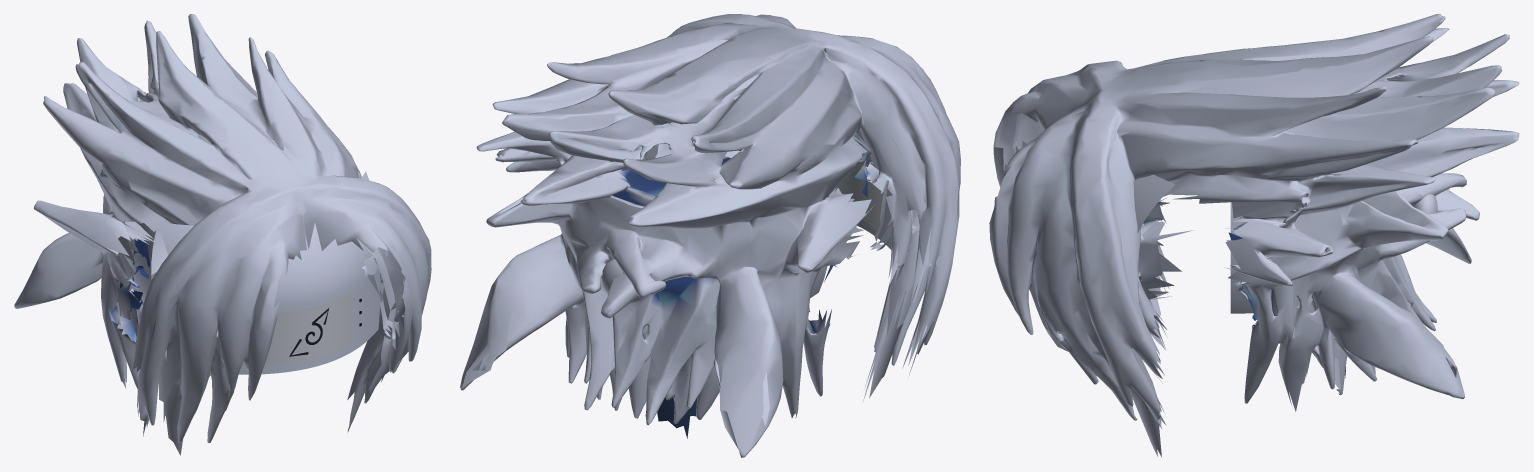
The model's file is reference-sculpt-hair-v10.glb.
3 renders of one model, left to right at view 1: azimuth 30°, elevation 25°; view 2: azimuth 150°, elevation 25°; view 3: azimuth 270°, elevation 25°, orthographic. The views are drawn at different scales.
Visible parts, largest first — view 1: Reference Sculpt Hair; view 2: Reference Sculpt Hair; view 3: Reference Sculpt Hair.
Part boxes in pixels (bbox=[...]): Reference Sculpt Hair: bbox=[14, 14, 431, 455]; Reference Sculpt Hair: bbox=[460, 14, 960, 457]; Reference Sculpt Hair: bbox=[989, 14, 1519, 457].
Bounding box in the file's own units: 0.3047 × 0.3285 × 0.4134.
